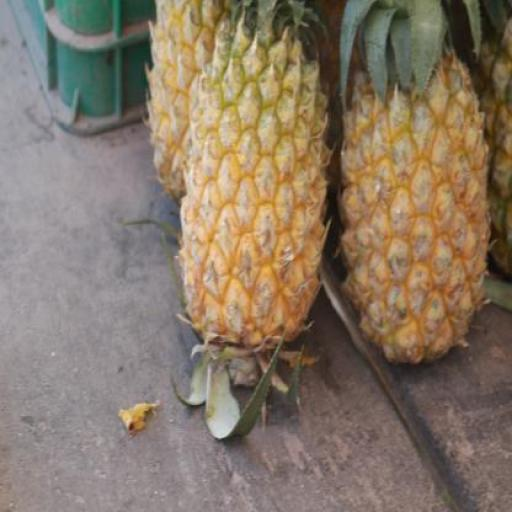Pineapple - v8 v1: (184, 23, 330, 346), (340, 58, 490, 360), (146, 0, 244, 203)
